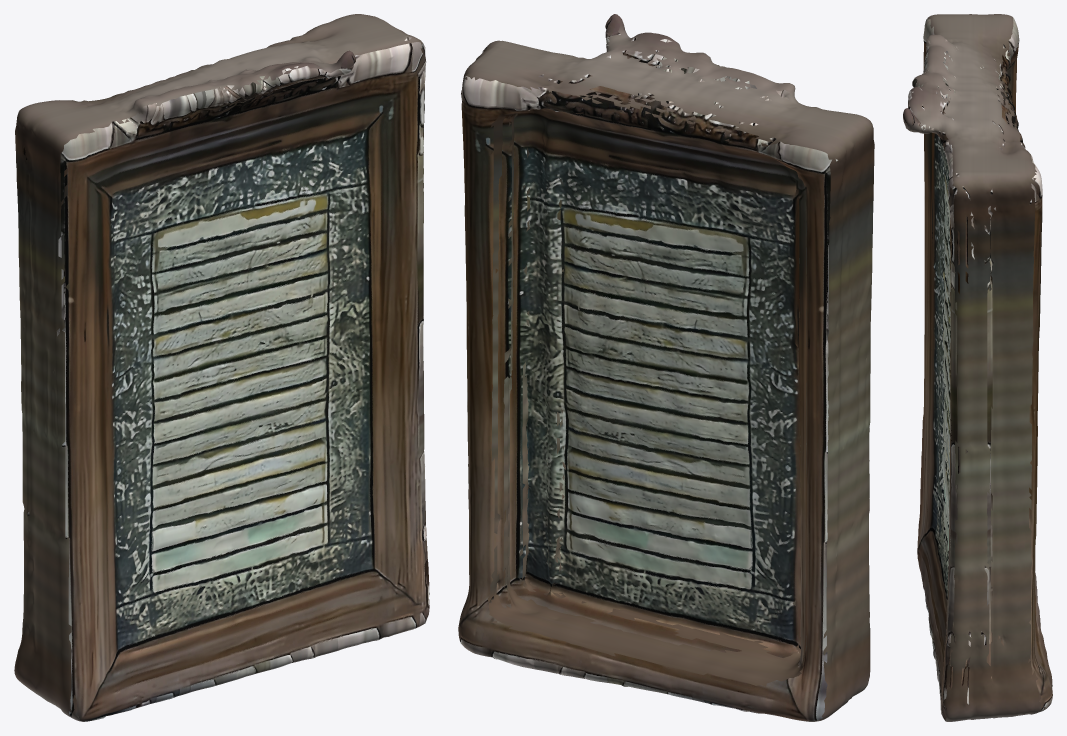
Rendered from kfl-2190.glb.
3 renders of one model, left to right at view 1: azimuth 30°, elevation 25°; view 2: azimuth 150°, elevation 25°; view 3: azimuth 270°, elevation 25°, orthographic. The views are drawn at different scales.
Visible parts, largest first — view 1: kfl-2190; view 2: kfl-2190; view 3: kfl-2190.
Part boxes in pixels (bbox=[...]): kfl-2190: bbox=[14, 14, 429, 721]; kfl-2190: bbox=[458, 14, 874, 721]; kfl-2190: bbox=[903, 14, 1052, 721].
Size of the model in its own units: 0.645 by 0.9912 by 0.234.
Materials: 4 (4 with a texture image).
